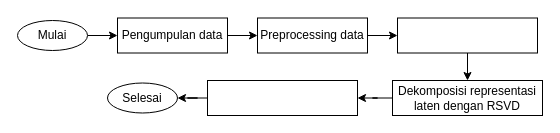
Image size: 560x133. Some labels were removed from this diagram. The shapes that lost their labels are listed below. From the top down, each one's centre as x and y in pixels, then its label:
At point 467,35: "Pembuatan representasi laten dengan VAE".
At point 282,98: "Evaluasi hasil rekomendasi".
